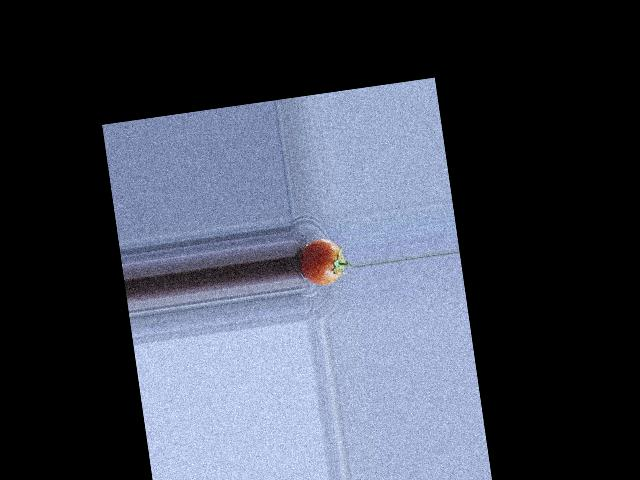tomato: (296, 236, 346, 287)
